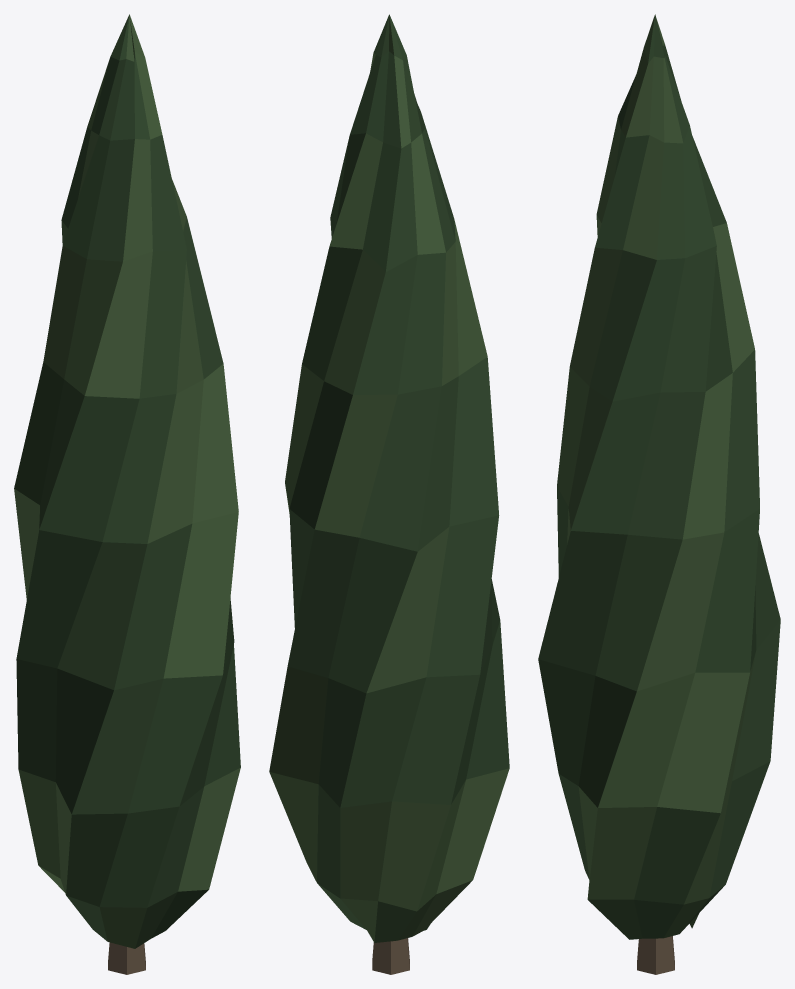
File: cypress.glb
3 renders of one model, left to right at view 1: azimuth 30°, elevation 25°; view 2: azimuth 150°, elevation 25°; view 3: azimuth 270°, elevation 25°, orthographic.
Parts seen in each view (by area): view 1: cypress; view 2: cypress; view 3: cypress.
Part boxes in pixels (x1,y1,x2,y2): cypress: [14, 14, 240, 974]; cypress: [269, 14, 509, 974]; cypress: [538, 14, 780, 974].
Size of the model in its own units: 1.77 by 8.18 by 1.89.
